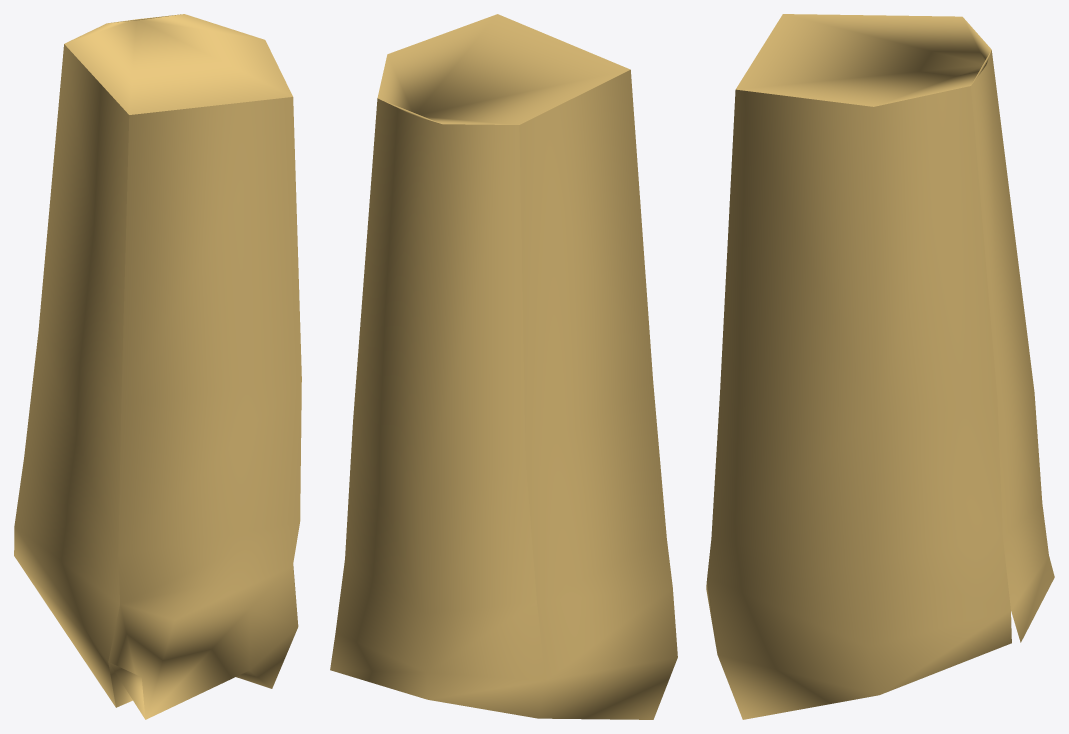
File: left_forearm.glb
3 renders of one model, left to right at view 1: azimuth 30°, elevation 25°; view 2: azimuth 150°, elevation 25°; view 3: azimuth 270°, elevation 25°, orthographic. The views are drawn at different scales.
Visible parts, largest first — view 1: sweater-yellow_LEFT_FOREARM; view 2: sweater-yellow_LEFT_FOREARM; view 3: sweater-yellow_LEFT_FOREARM.
Boxes of the visible parts, left/top/right/bottom form: sweater-yellow_LEFT_FOREARM: left=14, top=14, right=301, bottom=719; sweater-yellow_LEFT_FOREARM: left=330, top=14, right=677, bottom=719; sweater-yellow_LEFT_FOREARM: left=706, top=14, right=1054, bottom=719.
Size of the model in its own units: 0.1163 by 0.2889 by 0.1398.
Materials: 1 (1 with a texture image).
